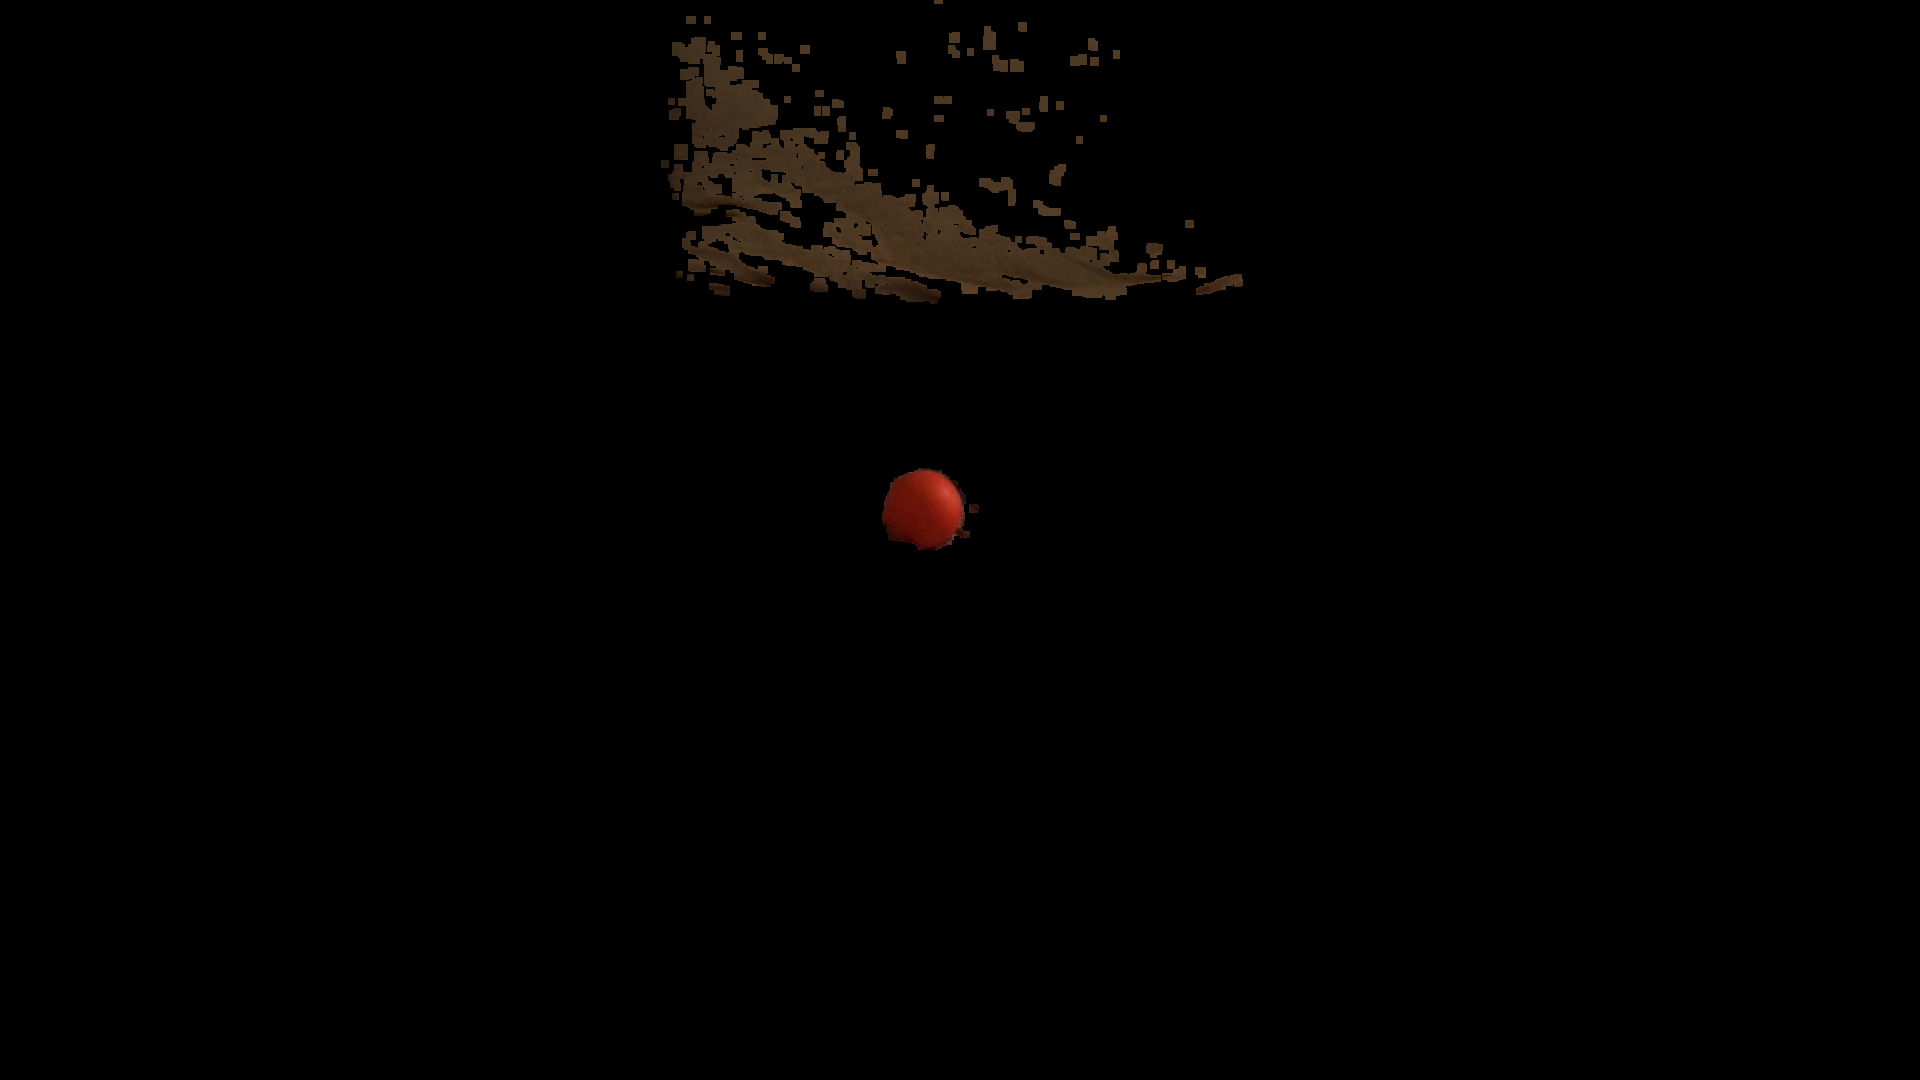Ball: (884, 468, 961, 546)
